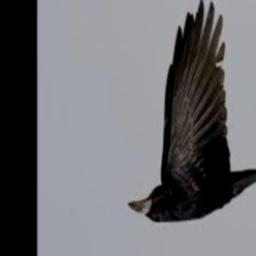Crow: (127, 2, 256, 223)
